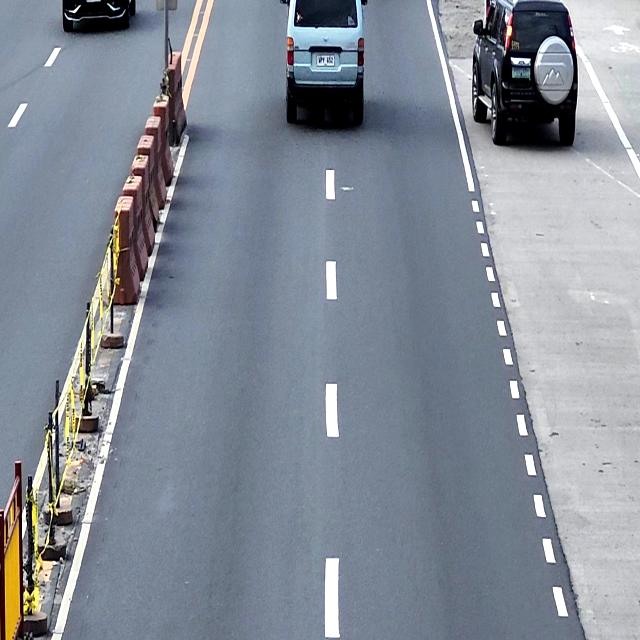Car: (471, 0, 579, 150), (280, 0, 368, 127), (61, 0, 136, 32)
License-Plate: (511, 66, 531, 80), (317, 54, 335, 67)
